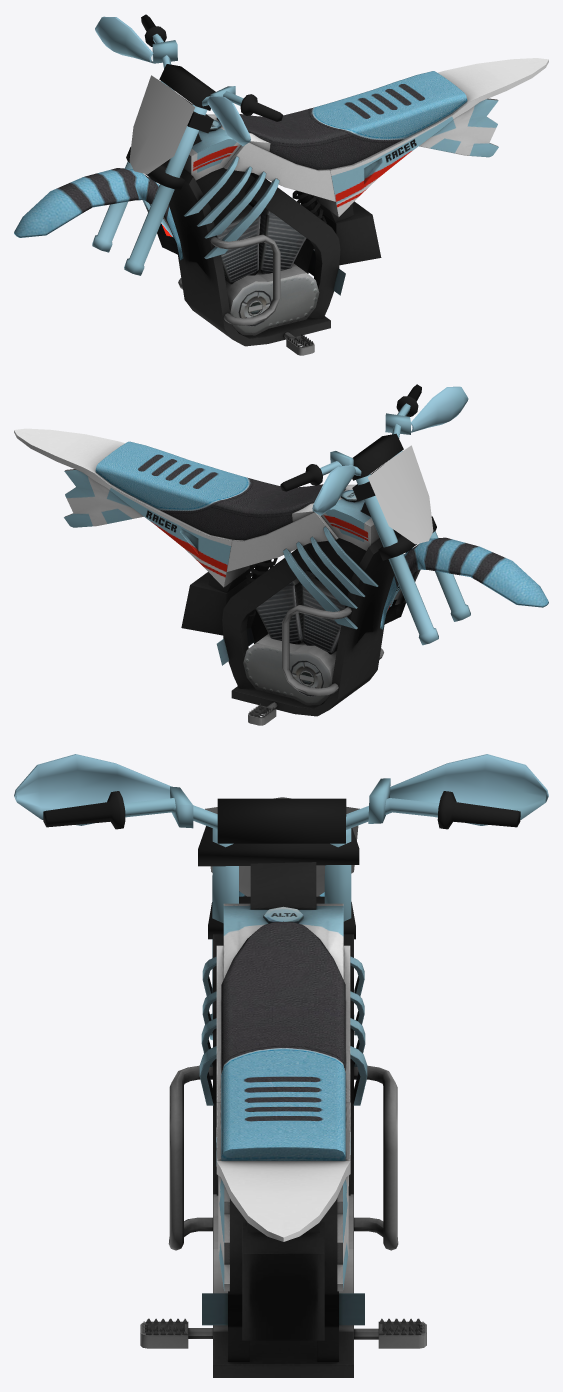
File: bike2_body.fbx
3 renders of one model, top to bottom at view 1: azimuth 30°, elevation 25°; view 2: azimuth 150°, elevation 25°; view 3: azimuth 270°, elevation 25°, orthographic. The views are drawn at different scales.
Visible parts, largest first — view 1: bike2; view 2: bike2; view 3: bike2.
Boxes of the visible parts, x1,y1,x2,y2 form: bike2: (14, 14, 548, 355); bike2: (14, 384, 548, 725); bike2: (14, 754, 548, 1377).
Size of the model in its own units: 162 by 83.86 by 80.21.
